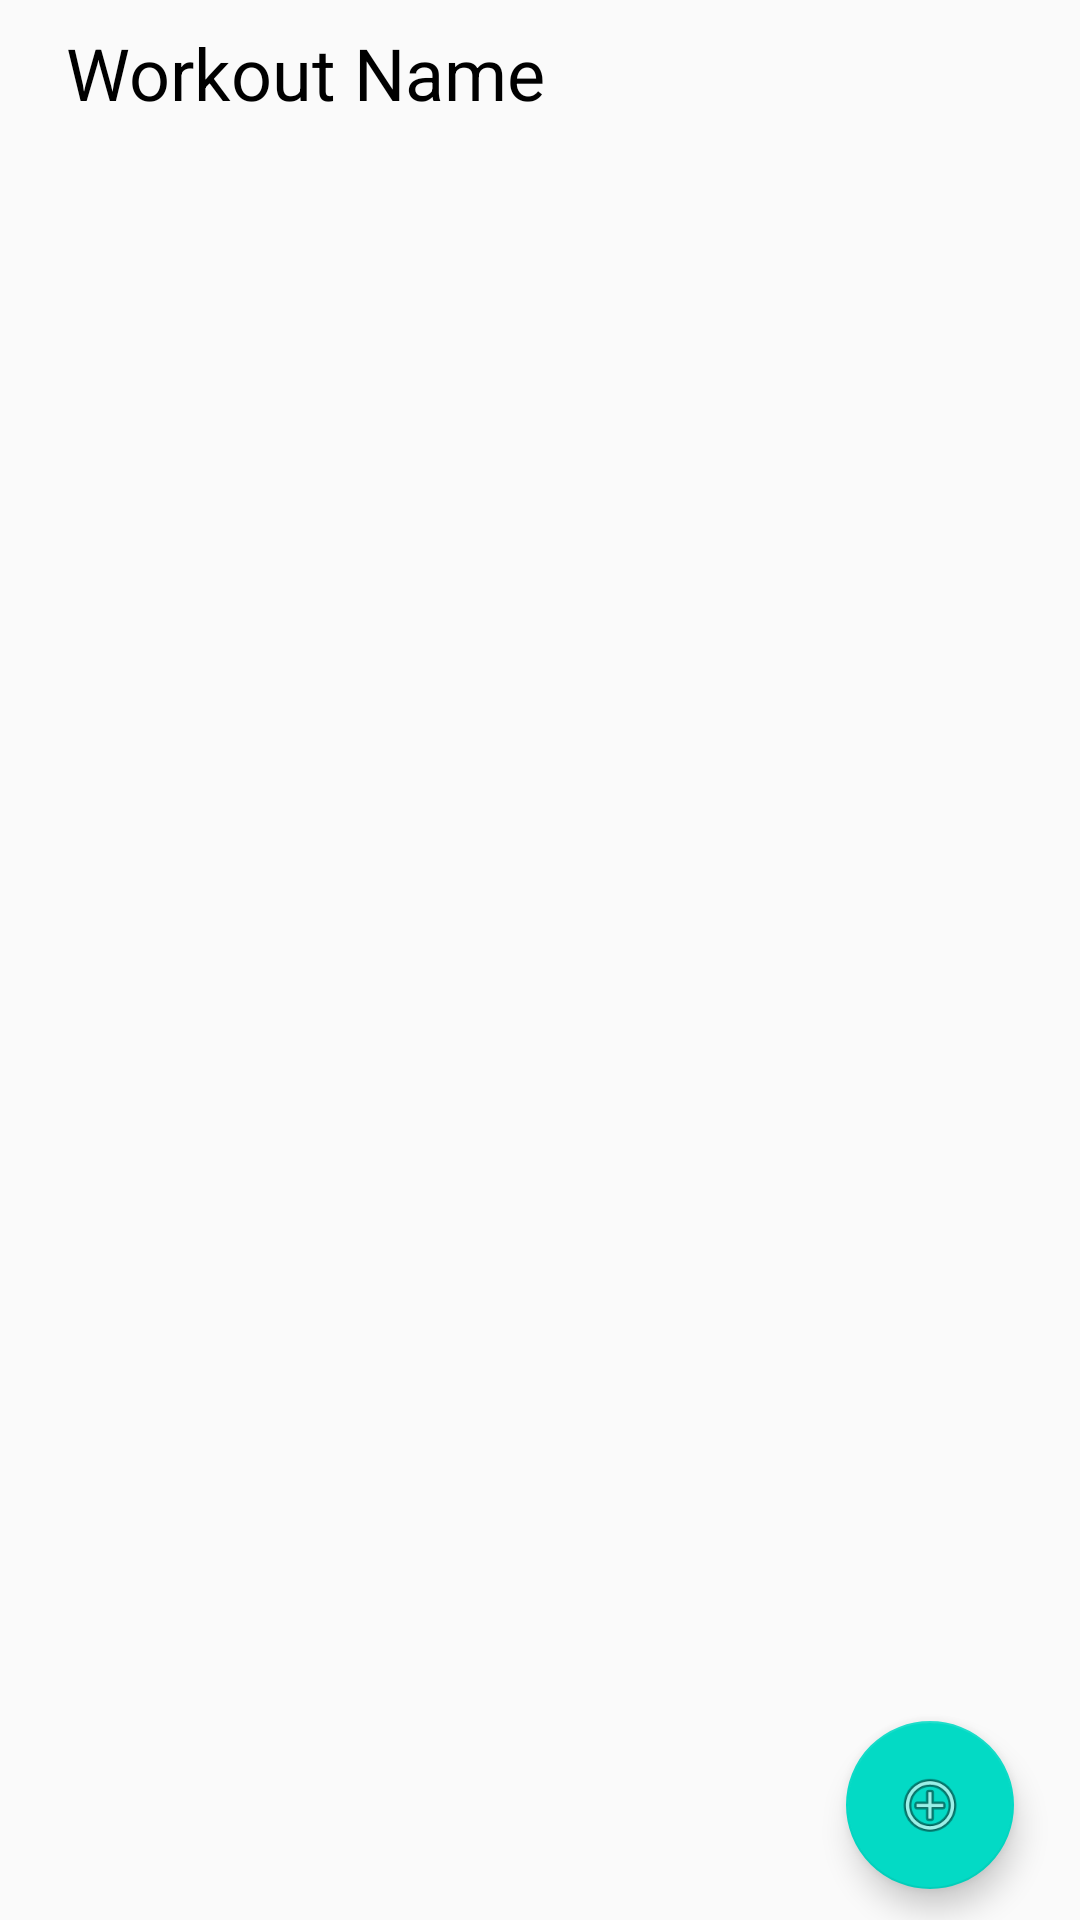

Where icons sit on this 1080×1920 app screen, as (x1, y1, x2, y2):
add: (846, 1721, 1014, 1889)
